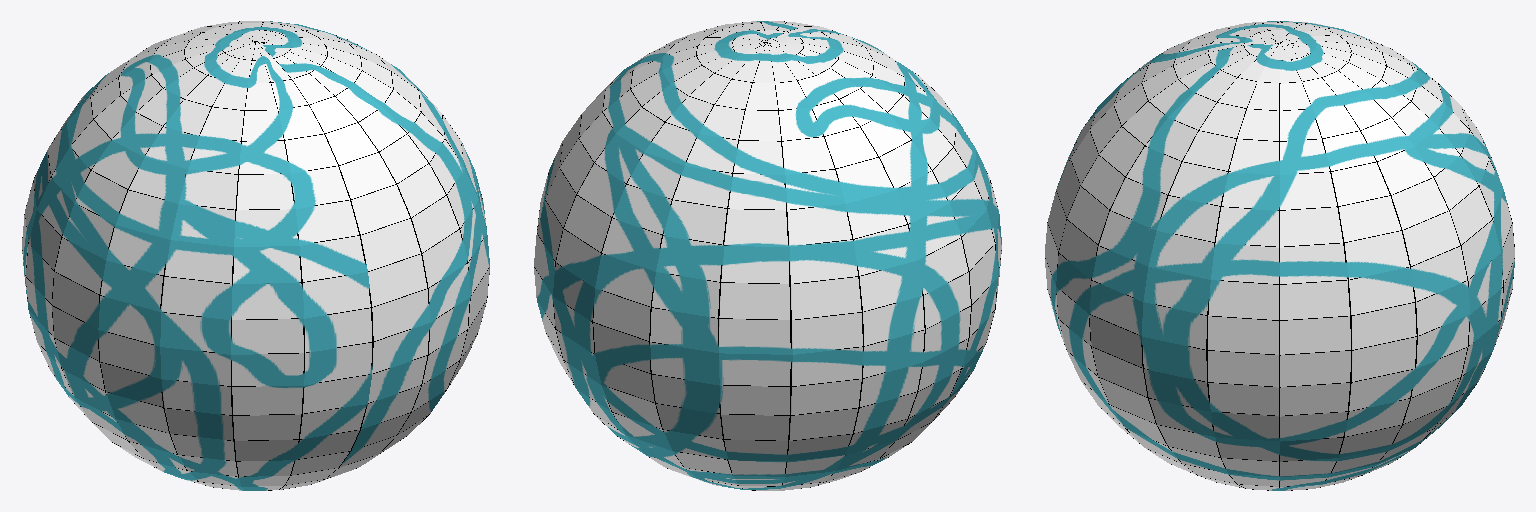
3 views of the same model, side by side, from view 1: azimuth 30°, elevation 25°; view 2: azimuth 150°, elevation 25°; view 3: azimuth 270°, elevation 25° (orthographic).
Parts seen in each view (by area): view 1: obj1; view 2: obj1; view 3: obj1.
Part boxes in pixels (x1,y1,x2,y2): obj1: (22,21,489,490); obj1: (534,21,1001,490); obj1: (1045,21,1514,490).
Size of the model in its own units: 200 by 200 by 200.
Materials: 1 (1 with a texture image).